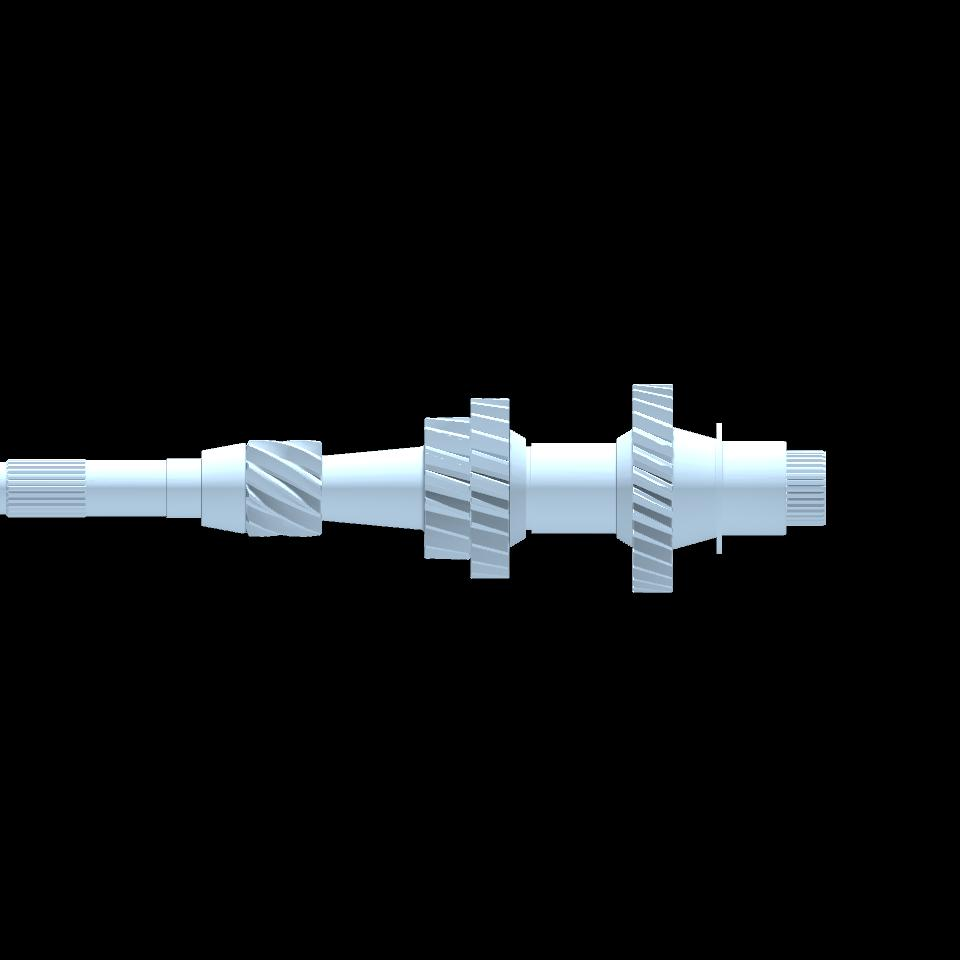Helical: (631, 384, 674, 595), (247, 439, 322, 537), (471, 397, 511, 580), (423, 417, 470, 559)
Straight: (7, 458, 84, 519), (786, 450, 823, 527)
